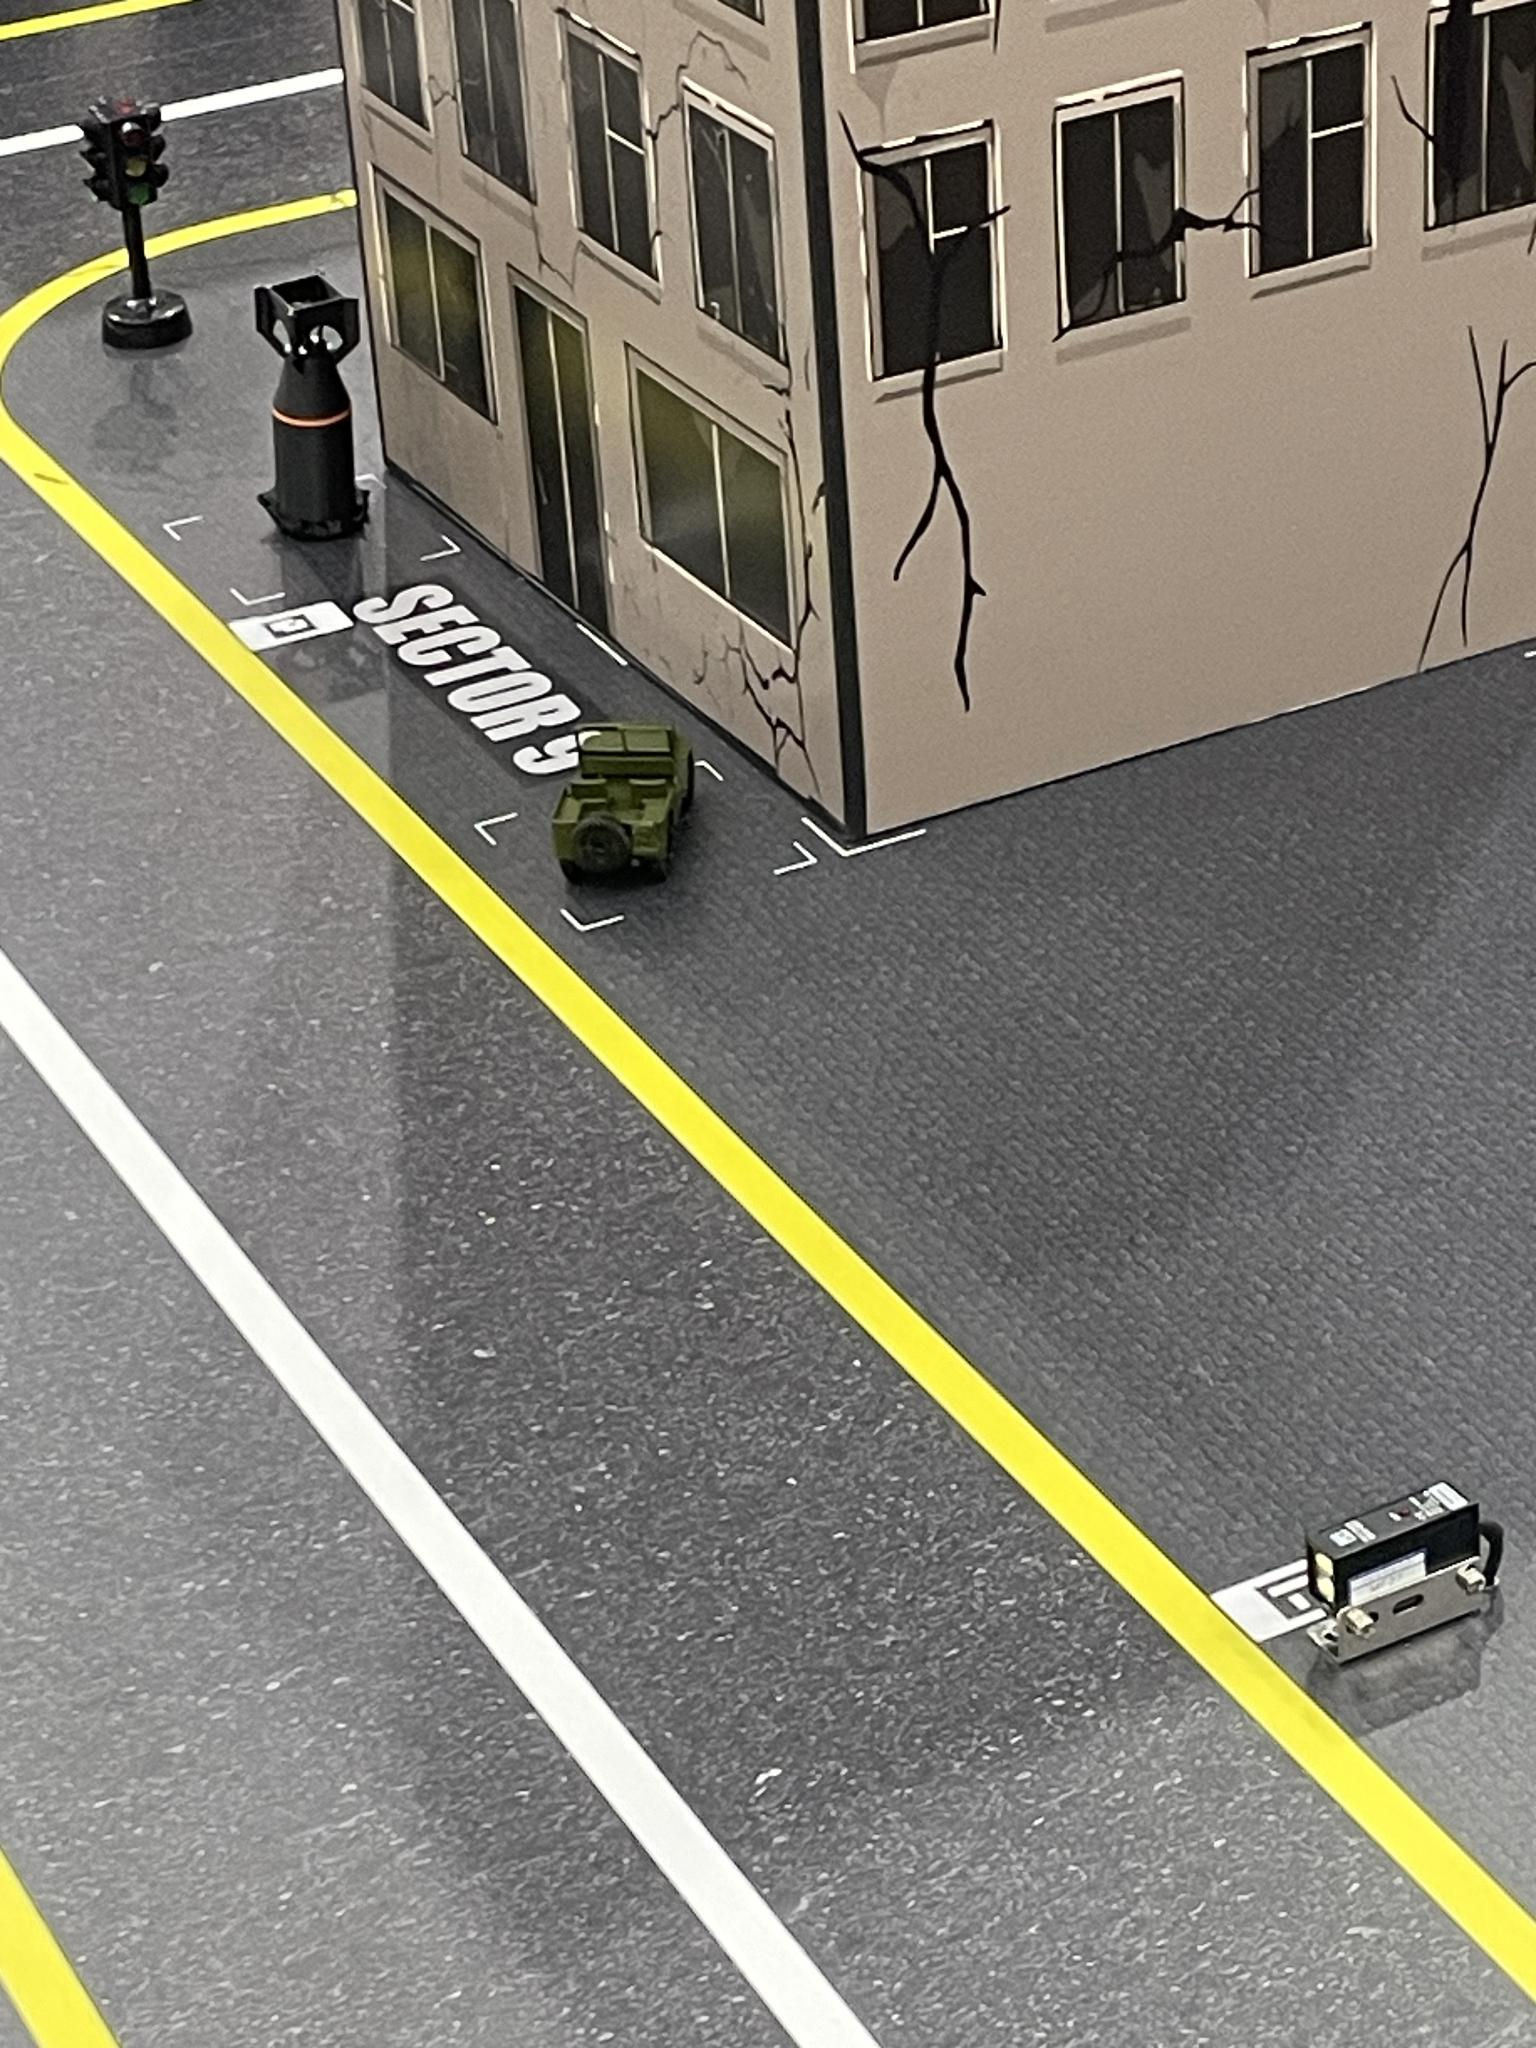Car: (549, 721, 707, 905)
Missile: (248, 266, 381, 556)
